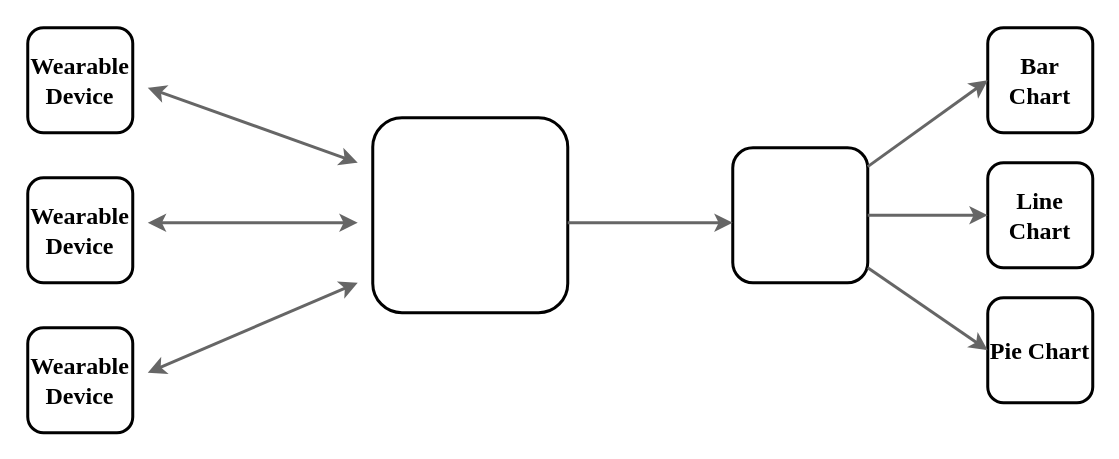
This 1119x459 diagram has some shape labels left out. The centre of each missing label's shape, as x and y in pixels:
"Dashboard" goes at pixel 799 215.
"Server" goes at pixel 469 215.
